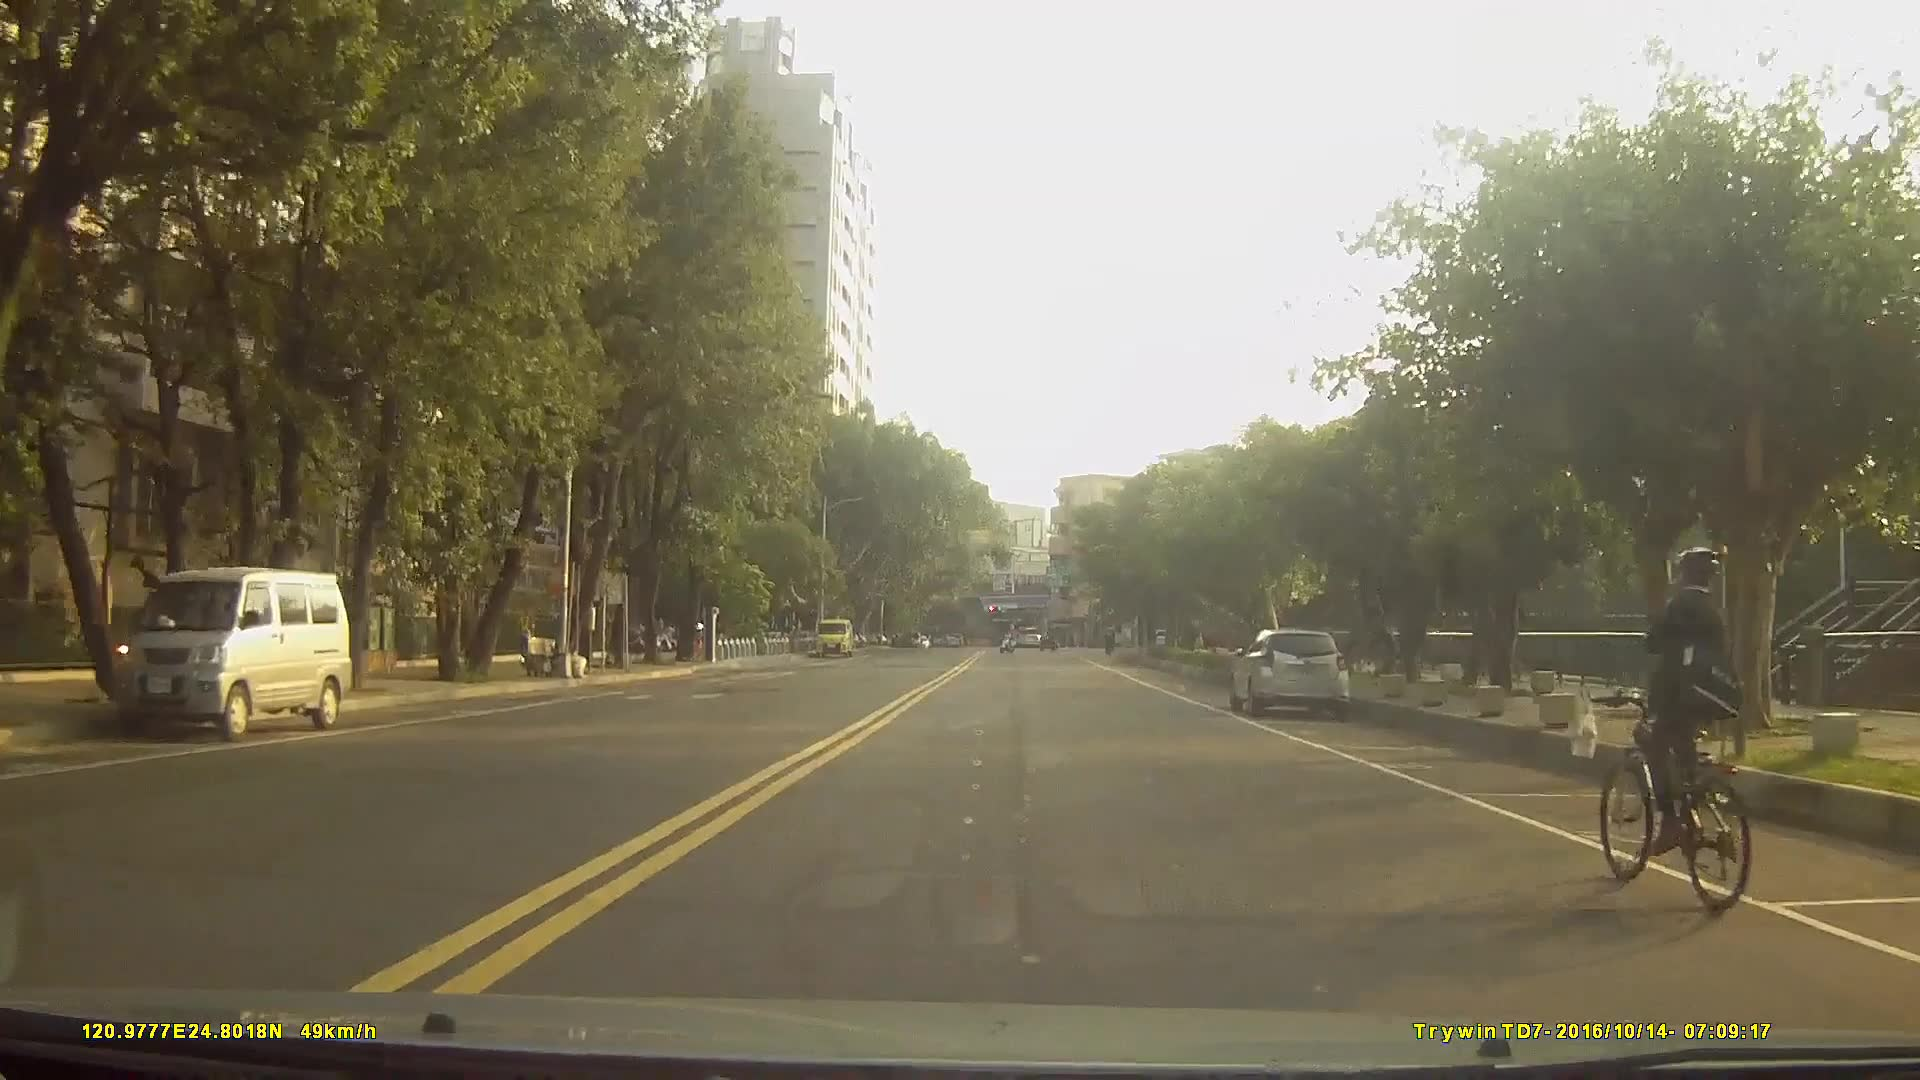rider: (1597, 546, 1757, 920)
vehicle: (110, 568, 355, 746), (1227, 625, 1353, 718), (1016, 624, 1043, 649)
